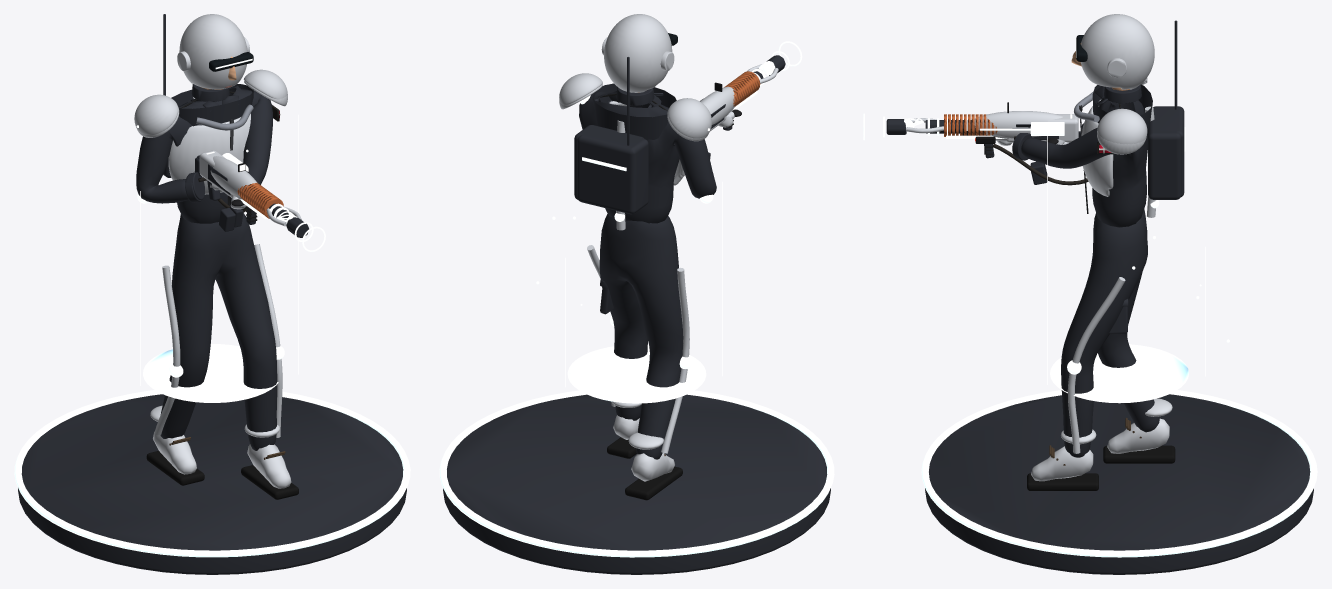
Rendered from lyn_krom.glb.
3 views of the same model, side by side, from view 1: azimuth 30°, elevation 25°; view 2: azimuth 150°, elevation 25°; view 3: azimuth 270°, elevation 25° (orthographic).
Visible parts, largest first — view 1: fod_net, menneske_net, hoved_net, op4.001_net, op2_net, op4_net, op3.001_net, vaaben_net, op2.001_net, op4.002_net, op3_net; view 2: fod_net, menneske_net, op4_net, op4.001_net, hoved_net, op3.001_net, vaaben_net, ned4_net, op2.001_net; view 3: fod_net, menneske_net, op4.001_net, hoved_net, op4_net, ned4_net, vaaben_net, op3.001_net, op2.001_net, op2_net, op3_net.
Part boxes in pixels (x1,y1,x2,y2): fod_net: (14,390,410,574); menneske_net: (136,84,298,499); hoved_net: (177,14,253,89); op4.001_net: (136,114,298,402); op2_net: (168,104,285,457); op4_net: (137,97,284,437); op3.001_net: (134,14,287,135); vaaben_net: (199,150,302,226); op2.001_net: (210,156,257,224); op4.002_net: (219,199,325,251); op3_net: (206,151,308,237); fod_net: (439,390,834,574); menneske_net: (579,83,741,500); op4_net: (577,95,713,453); op4.001_net: (536,128,722,403); hoved_net: (601,14,677,92); op3.001_net: (559,57,711,145); vaaben_net: (700,61,778,131); ned4_net: (574,125,643,199); op2.001_net: (700,82,735,130); fod_net: (921,390,1317,574); menneske_net: (997,84,1175,490); op4.001_net: (1047,125,1229,403); hoved_net: (1071,14,1154,89); op4_net: (1067,106,1185,453); ned4_net: (1148,108,1181,199); vaaben_net: (904,114,1078,142); op3.001_net: (1097,20,1177,144); op2.001_net: (974,102,1062,158); op2_net: (1049,91,1127,455); op3_net: (886,114,1072,139).
Size of the model in its own units: 1.94 by 2.58 by 2.22.
